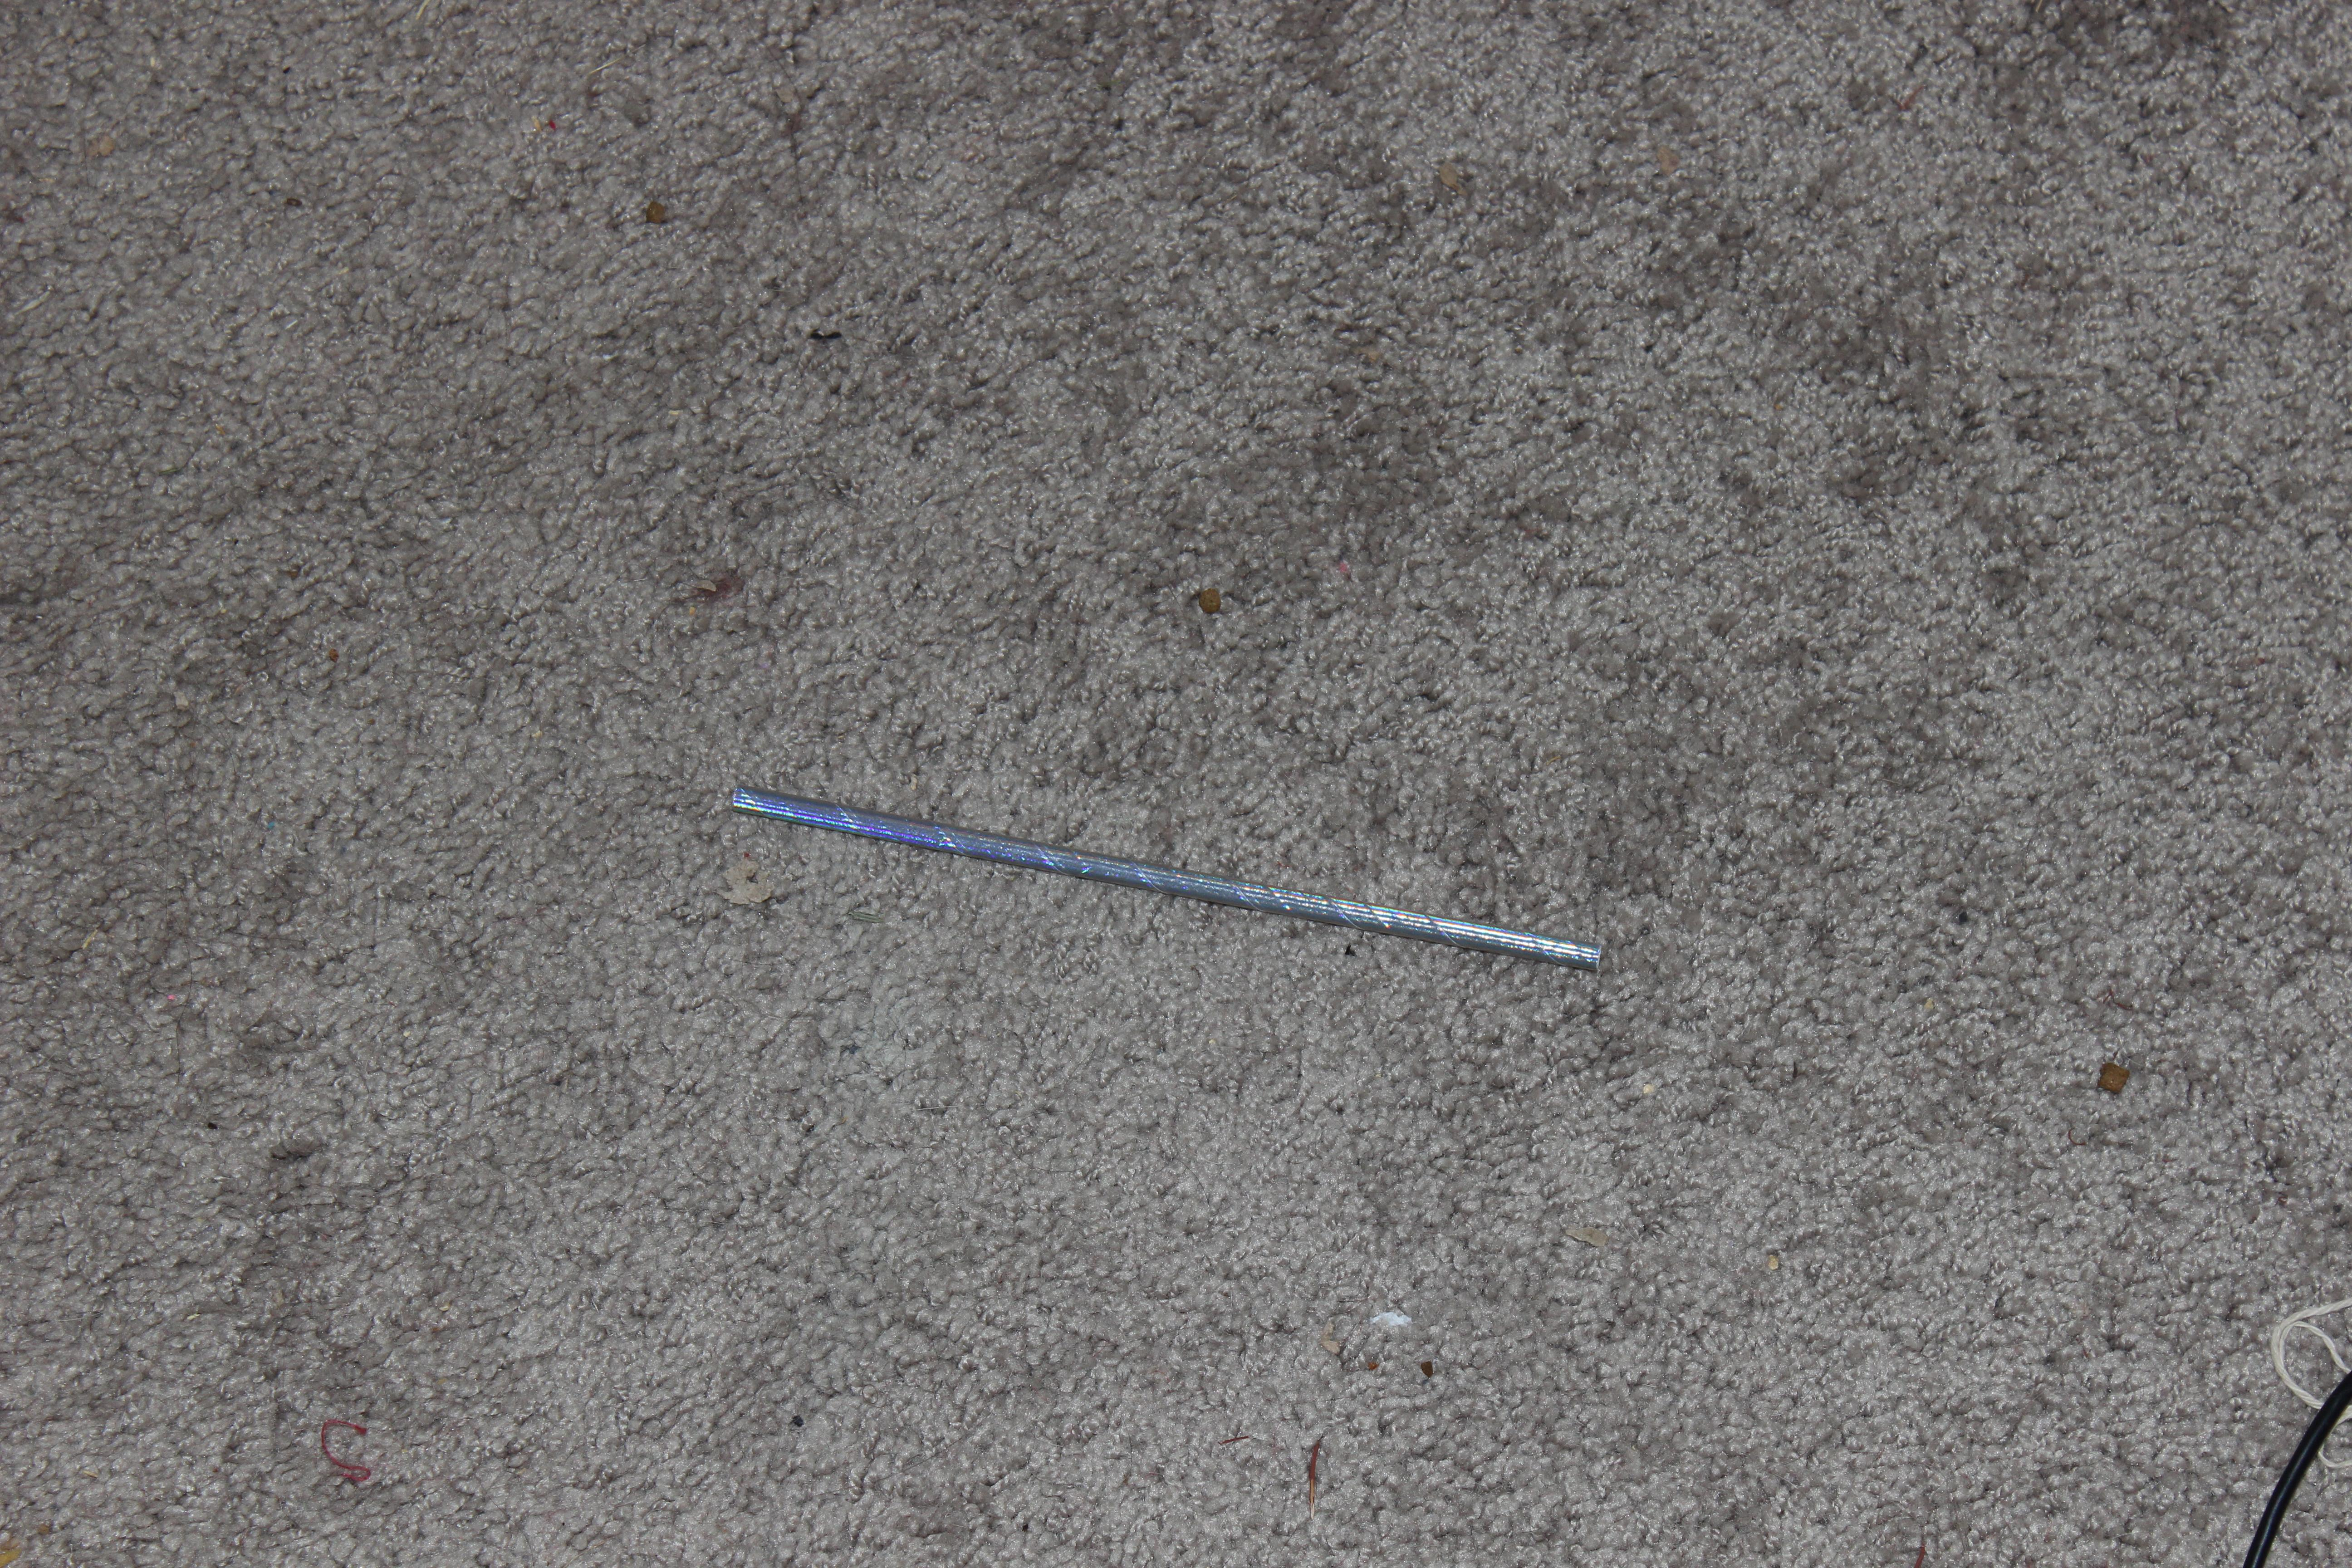silverStraw: (693, 751, 1634, 1004)
